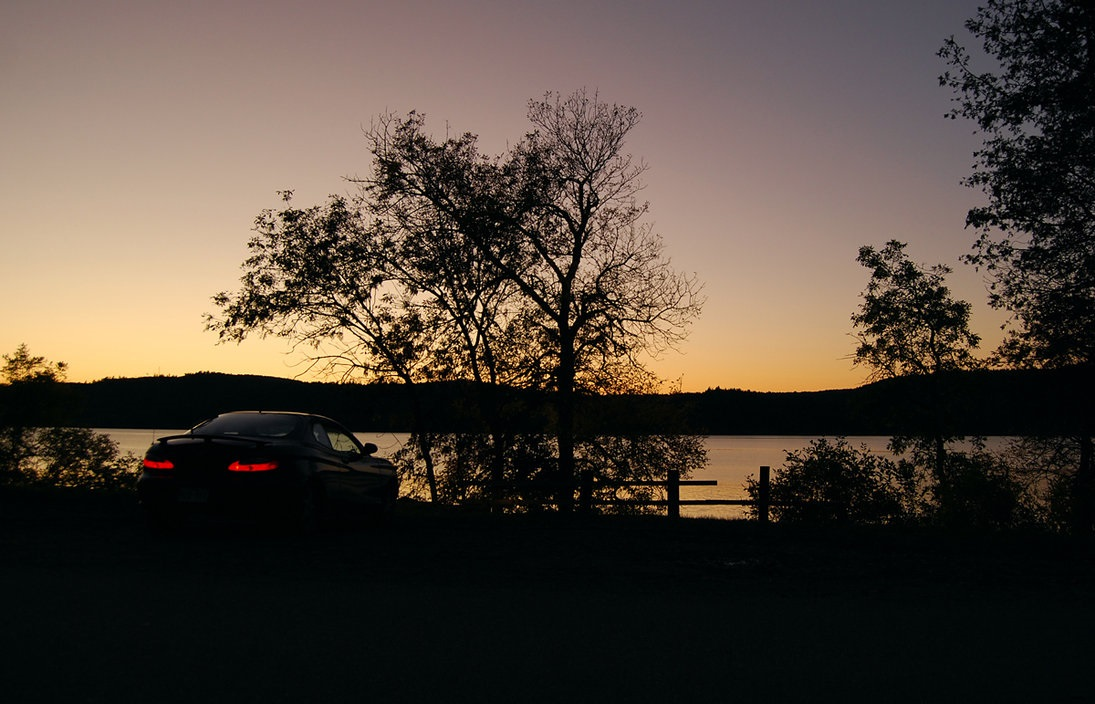car: (128, 404, 409, 537)
